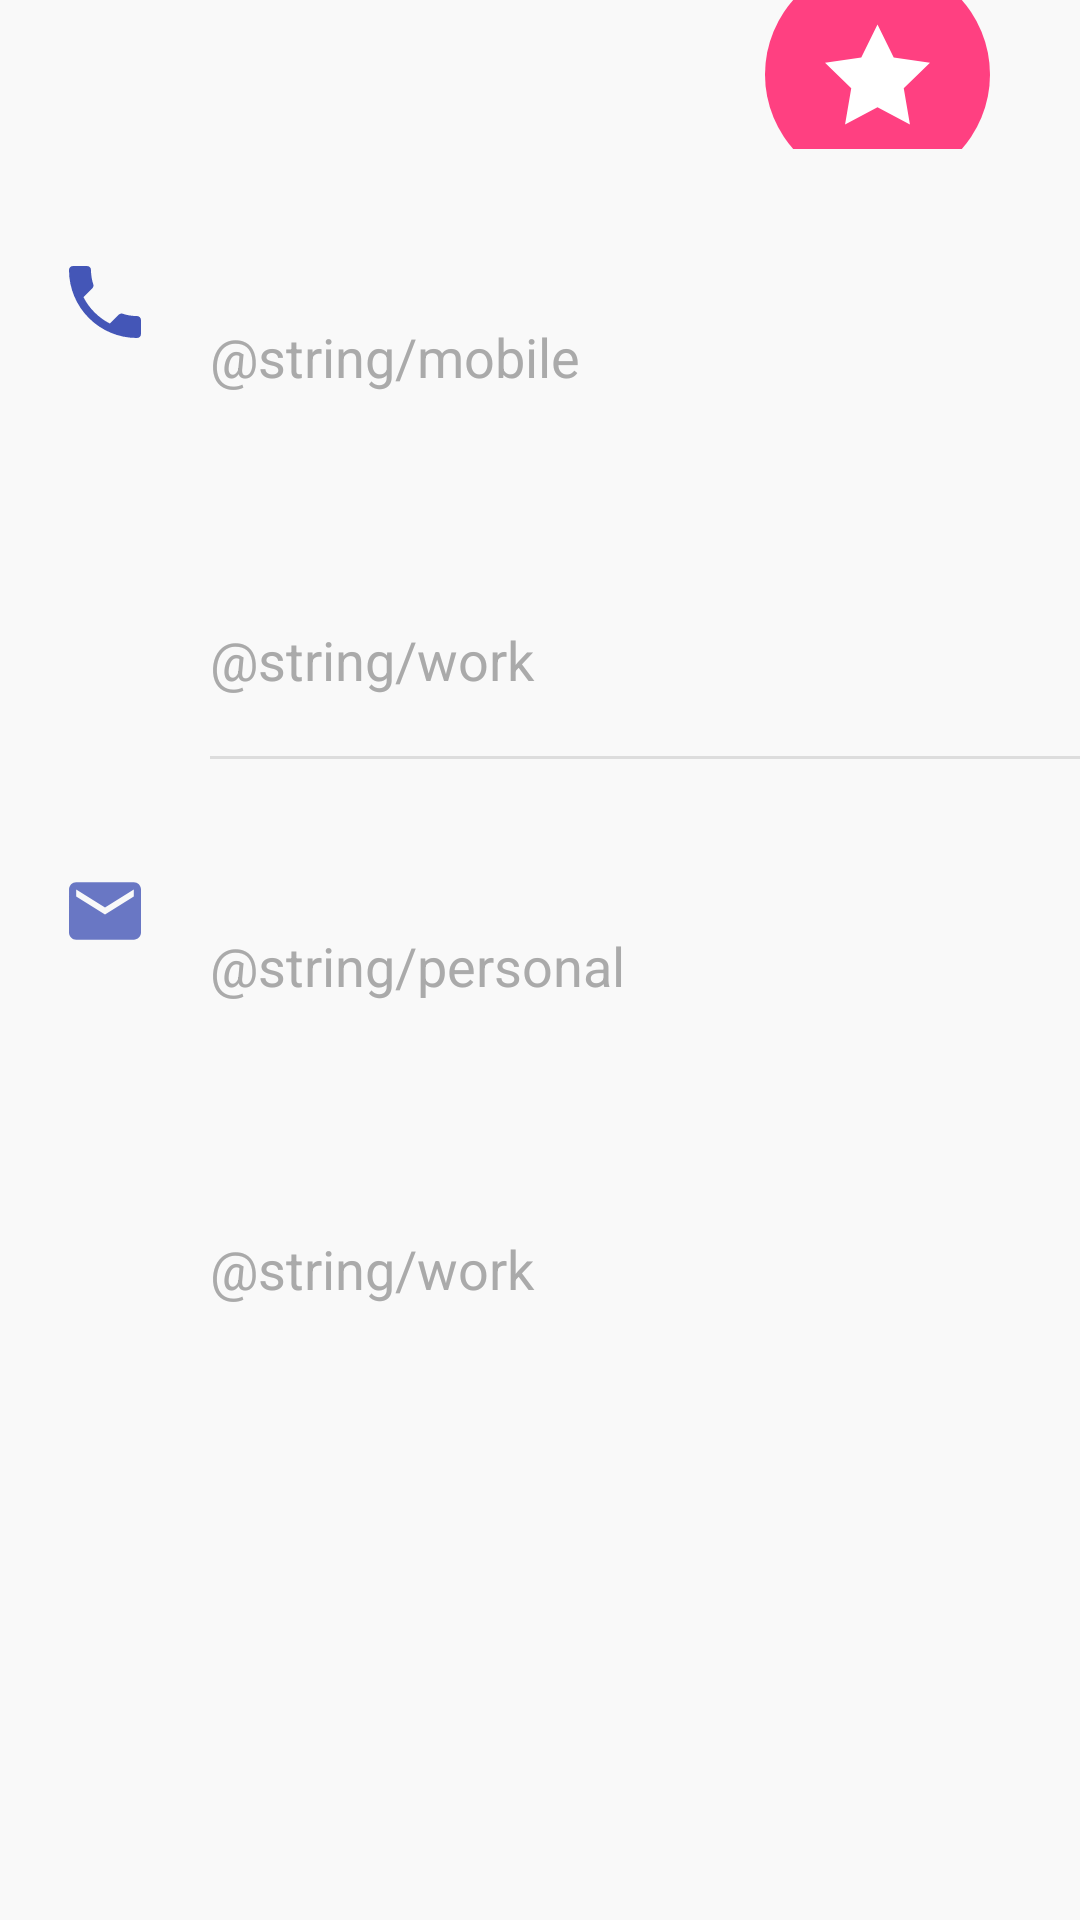

Point at icon controls on the screen. Image size 1080*1920, points as [x,y].
mail: [105,911]
phone: [105,302]
